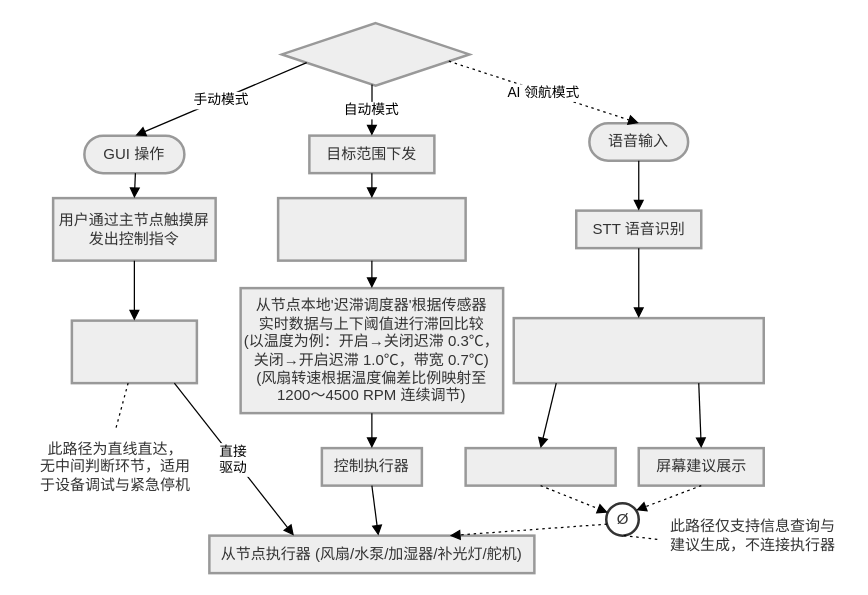
The diagram is 868 pixels wide and 595 high, and some of its shapes have lost their labels. Here are the shapes that lost their labels. From the top down, the box of each, then its label:
(280, 21, 470, 86): 三种控制模式
(276, 196, 466, 261): 主节点经 CAN WriteSet 帧 将阈值参数下发至从节点
(70, 319, 198, 384): 经 CAN 总线 WriteSet 帧下发
(512, 316, 764, 384): DeepSeek 大语言模型推理 (推理前注入实时传感器数据上下文)
(464, 446, 616, 486): TTS 语音合成回复
